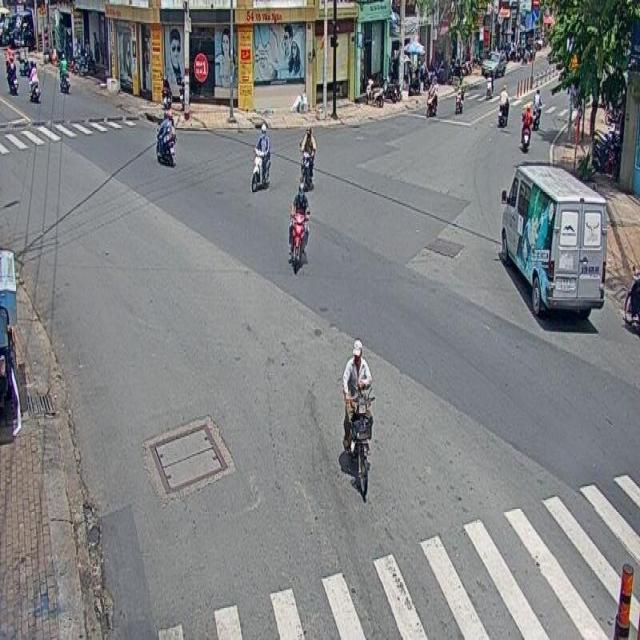motorcycle: (342, 344, 371, 508), (288, 180, 310, 276), (248, 123, 271, 192), (154, 108, 178, 171), (297, 120, 316, 190)
truck: (499, 165, 616, 326)
